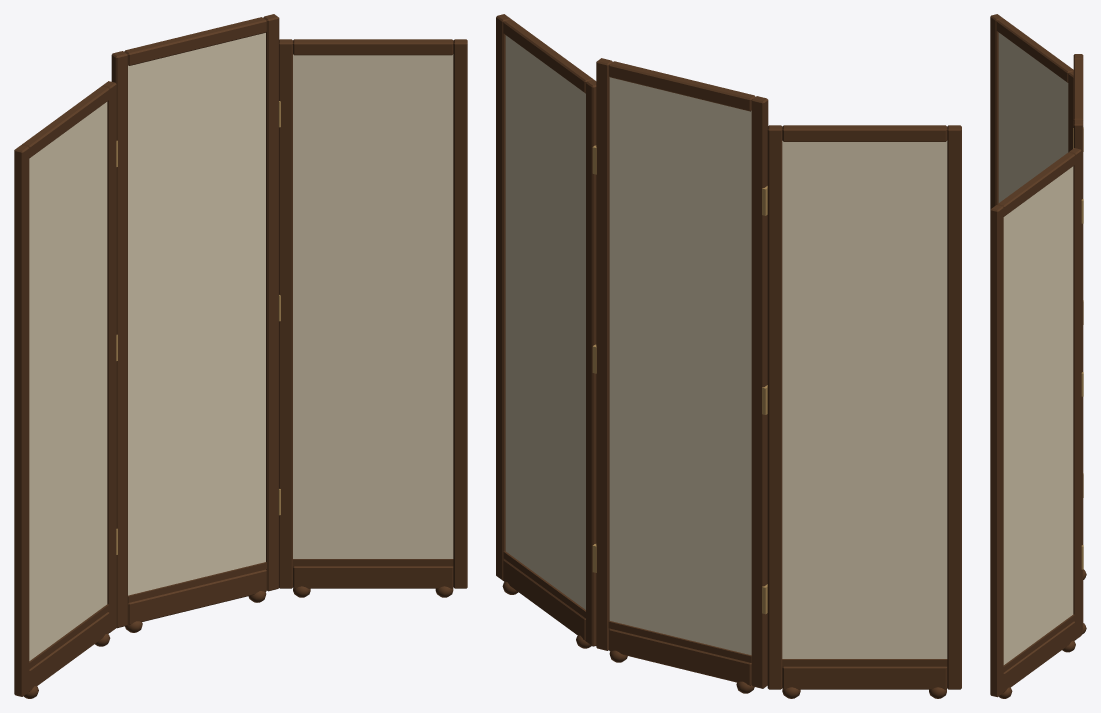
Rendered from folding_screen.glb.
3 views of the same model, side by side, from view 1: azimuth 30°, elevation 25°; view 2: azimuth 150°, elevation 25°; view 3: azimuth 270°, elevation 25° (orthographic). The views are drawn at different scales.
Parts seen in each view (by area): view 1: panel_R, panel_C, panel_L; view 2: panel_L, panel_C, panel_R; view 3: panel_R, panel_L, panel_C.
Boxes of the visible parts, x1,y1,x2,y2 form: panel_R: (279,39,467,597); panel_C: (111,14,280,632); panel_L: (14,81,116,698); panel_L: (767,125,961,698); panel_C: (592,58,768,693); panel_R: (496,14,596,648); panel_R: (990,148,1081,698); panel_L: (990,14,1073,209); panel_C: (1073,54,1086,634).
Size of the model in its own units: 1.47 by 1.8 by 0.303.
